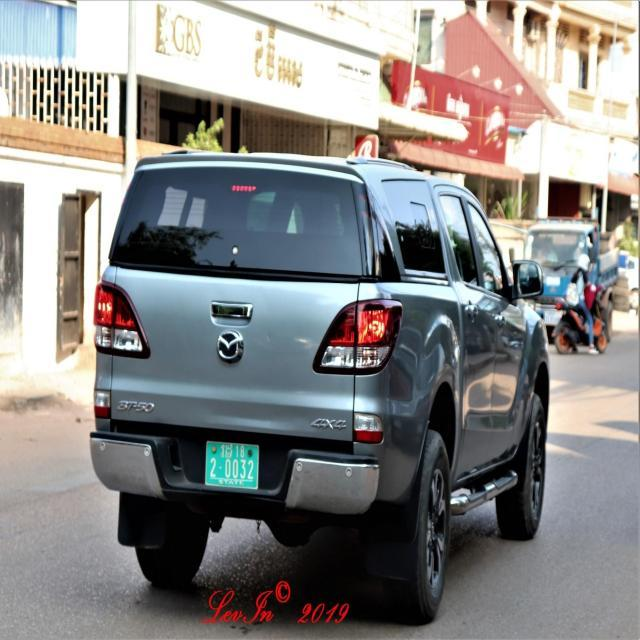State: (220, 443, 232, 459)
